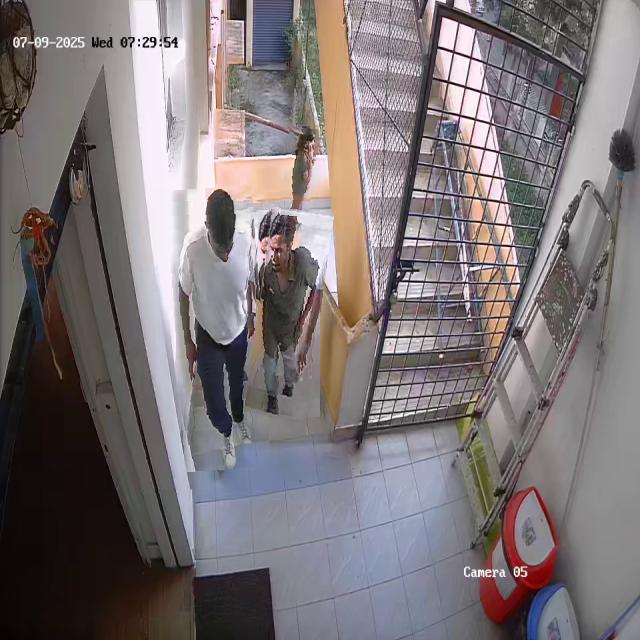person: (171, 186, 267, 471), (251, 208, 327, 418), (281, 127, 317, 216)
